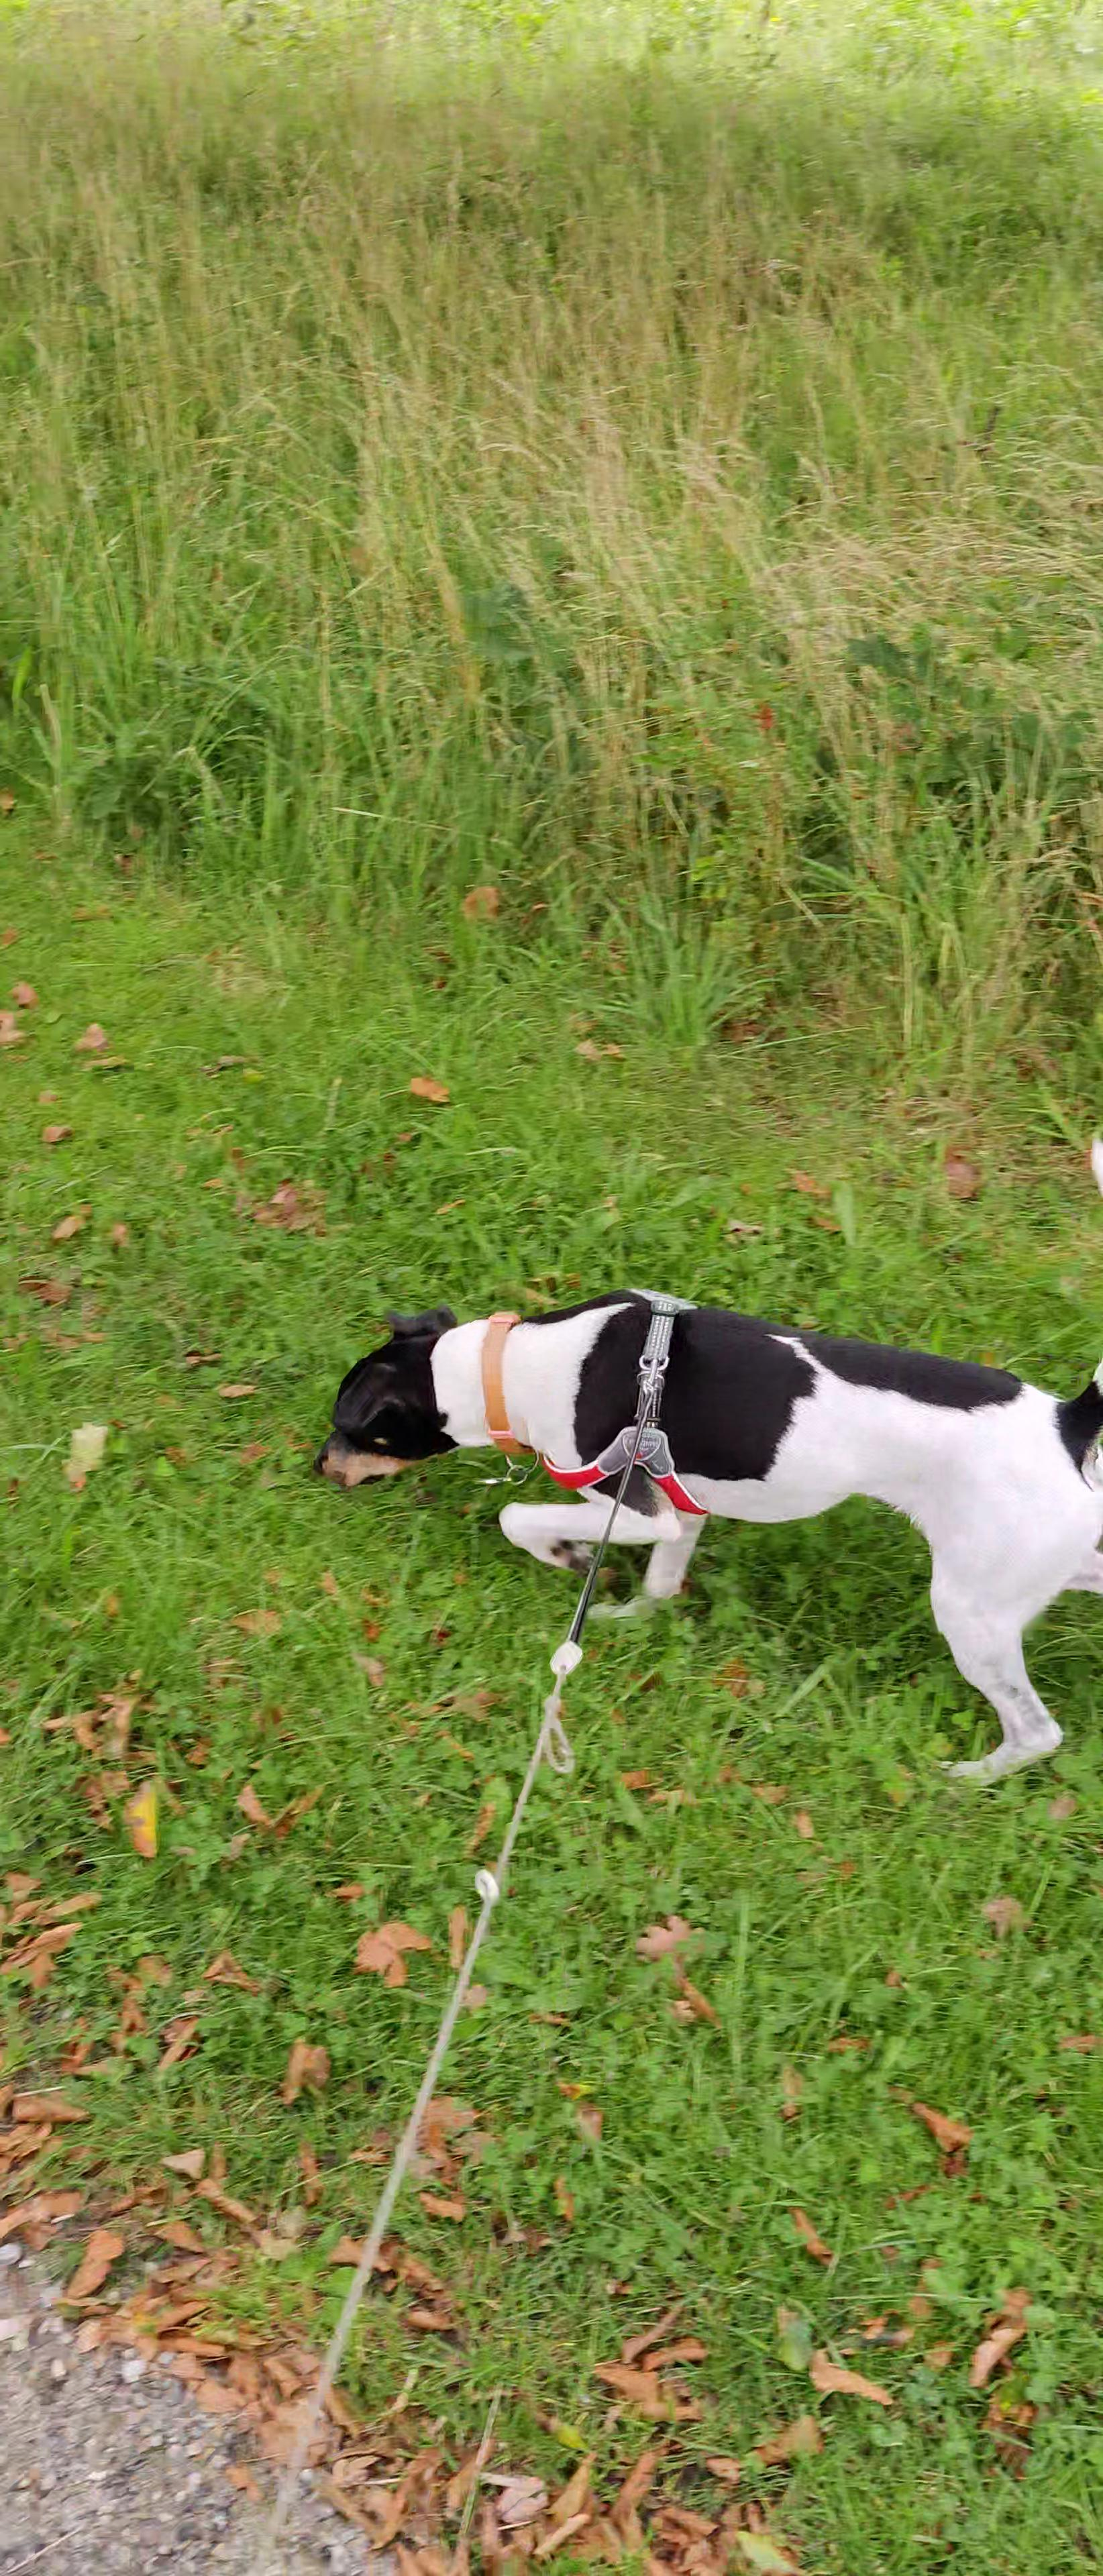Dog: (293, 1104, 1103, 1792)
